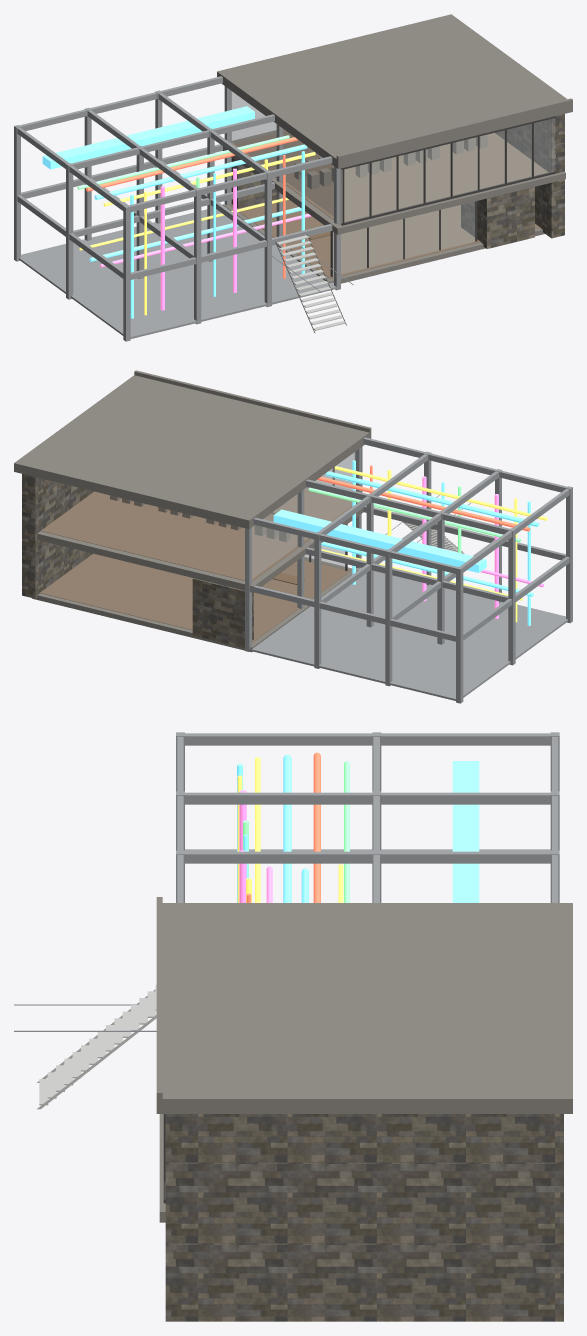
File: detail.glb
3 views of the same model, one above another, from view 1: azimuth 30°, elevation 25°; view 2: azimuth 150°, elevation 25°; view 3: azimuth 270°, elevation 25° (orthographic). The views are drawn at different scales.
Visible parts, largest first — view 1: B_steel, B_concrete, B_glass, B_floor, B_stone, B_cyan, B_metal, B_white, B_fabric, B_mag, B_yellow, B_red (+1 smaller); view 2: B_steel, B_concrete, B_floor, B_stone, B_cyan, B_glass, B_yellow, B_red, B_green, B_mag, B_fabric; view 3: B_concrete, B_stone, B_steel, B_cyan, B_white, B_yellow, B_red, B_green, B_mag.
Part boxes in pixels (x1,y1,x2,y2): B_steel: (14, 76, 353, 341); B_concrete: (217, 14, 572, 283); B_glass: (231, 91, 554, 275); B_floor: (230, 131, 547, 278); B_stone: (231, 114, 564, 248); B_cyan: (42, 106, 307, 318); B_metal: (330, 116, 555, 276); B_white: (275, 234, 346, 333); B_fabric: (294, 134, 487, 189); B_mag: (100, 168, 311, 310); B_yellow: (79, 152, 315, 315); B_red: (86, 137, 297, 278); B_steel: (245, 437, 572, 703); B_concrete: (14, 370, 371, 652); B_floor: (40, 488, 352, 642); B_stone: (22, 474, 253, 648); B_cyan: (273, 460, 539, 625); B_glass: (252, 447, 362, 578); B_yellow: (321, 466, 547, 622); B_red: (317, 465, 530, 531); B_green: (308, 486, 521, 552); B_mag: (422, 476, 543, 618); B_fabric: (110, 495, 290, 541); B_concrete: (156, 897, 572, 1222); B_stone: (165, 1114, 563, 1321); B_steel: (14, 732, 559, 1031); B_cyan: (237, 754, 479, 902); B_white: (37, 984, 156, 1109); B_yellow: (237, 757, 343, 902); B_red: (246, 752, 320, 902); B_green: (243, 761, 349, 902); B_mag: (239, 790, 272, 902).
Bounding box in the file's own units: 29.35 × 8.8 × 18.8.
Materials: 16 (2 with a texture image).
